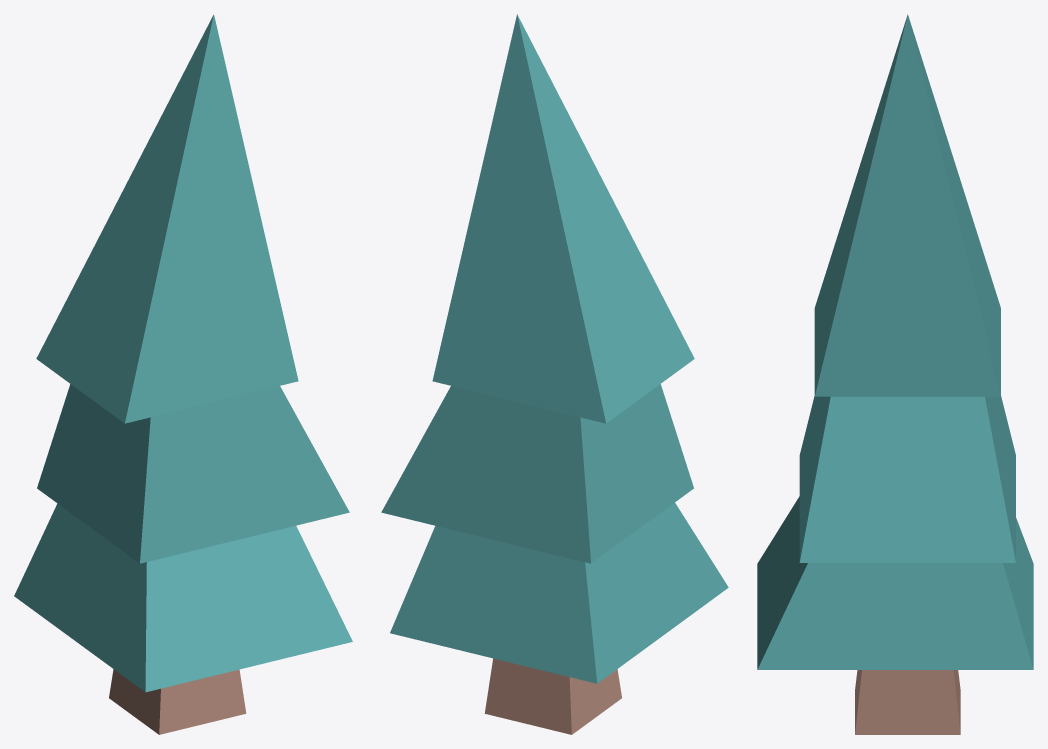
Rendered from tree_pineSmallC.glb.
3 renders of one model, left to right at view 1: azimuth 30°, elevation 25°; view 2: azimuth 150°, elevation 25°; view 3: azimuth 270°, elevation 25°, orthographic. The views are drawn at different scales.
Visible parts, largest first — view 1: tree_pineSmallC; view 2: tree_pineSmallC; view 3: tree_pineSmallC.
Part boxes in pixels (left/top/right/bottom): tree_pineSmallC: left=14, top=14, right=352, bottom=734; tree_pineSmallC: left=381, top=14, right=728, bottom=734; tree_pineSmallC: left=757, top=14, right=1033, bottom=734.
Size of the model in its own units: 0.3863 by 1.12 by 0.3919.
